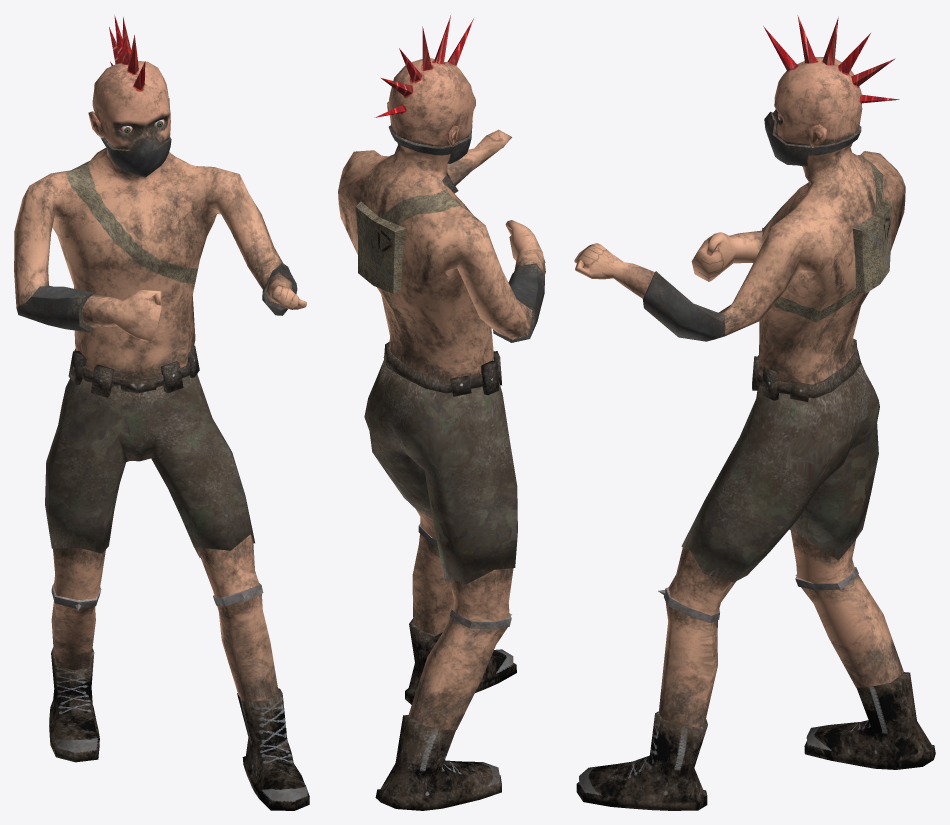
Rendered from Anim_disparar_ametralladora_npc2.0030.obj.
The picture shows the model from 3 angles, left to right: view 1: azimuth 30°, elevation 25°; view 2: azimuth 150°, elevation 25°; view 3: azimuth 270°, elevation 25°; orthographic projection. The views are drawn at different scales.
Visible parts, largest first — view 1: polySurface1; view 2: polySurface1; view 3: polySurface1.
Part boxes in pixels (bbox=[...]): polySurface1: bbox=[14, 14, 309, 810]; polySurface1: bbox=[338, 15, 545, 810]; polySurface1: bbox=[574, 15, 935, 810].
Bounding box in the file's own units: 3.08 × 9.88 × 4.27.
Materials: 2 (2 with a texture image).
